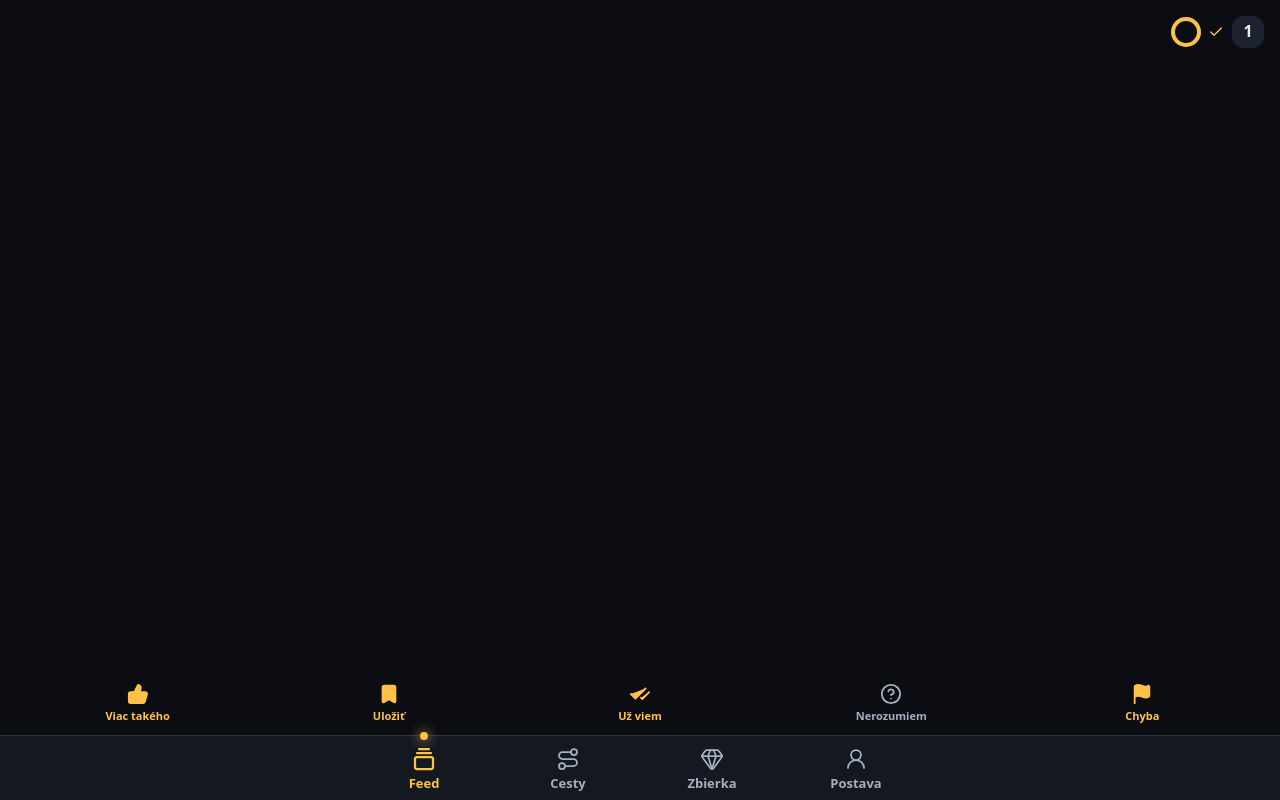
Test case: app shell › opens Zbierka from its tab
Click the link "Zbierka". click: coordinates (712, 769)
box: [687, 747, 737, 792]
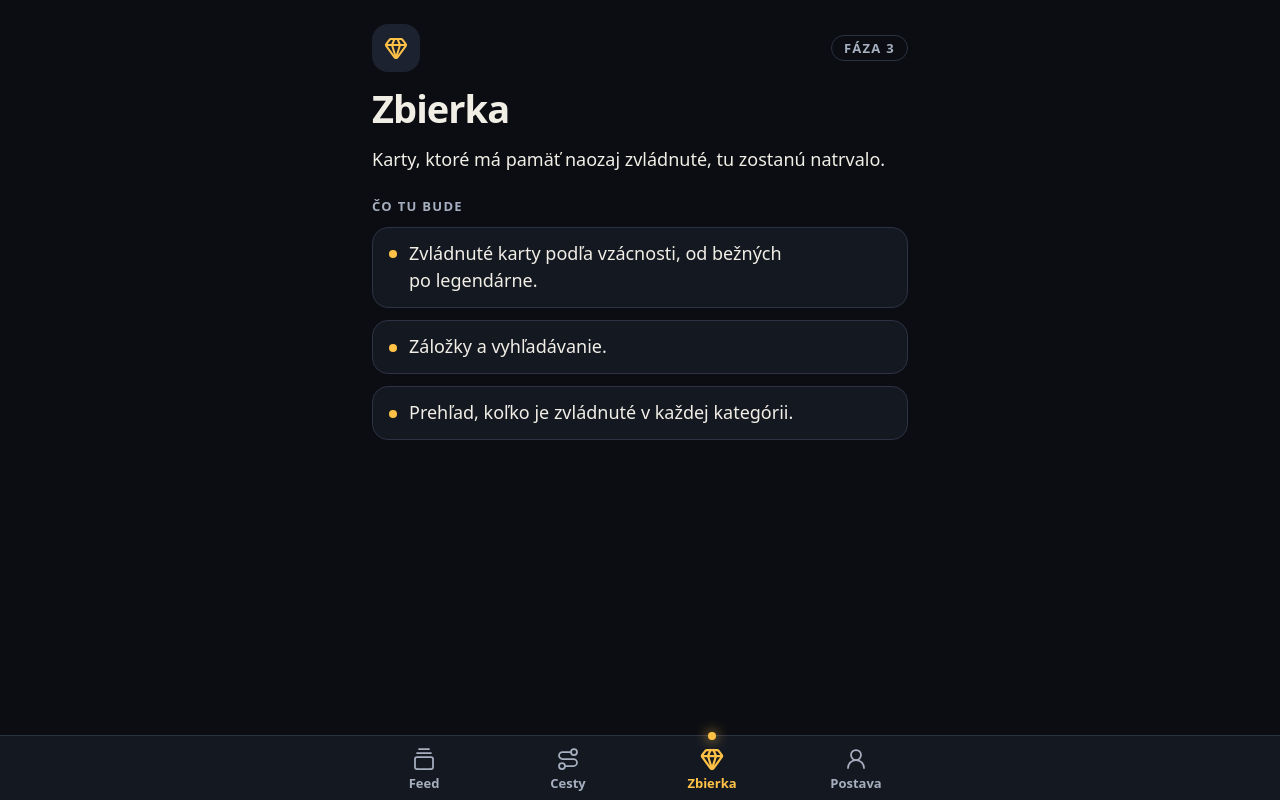
expect the heading "Zbierka" is shown: met, box [372, 82, 509, 134]
